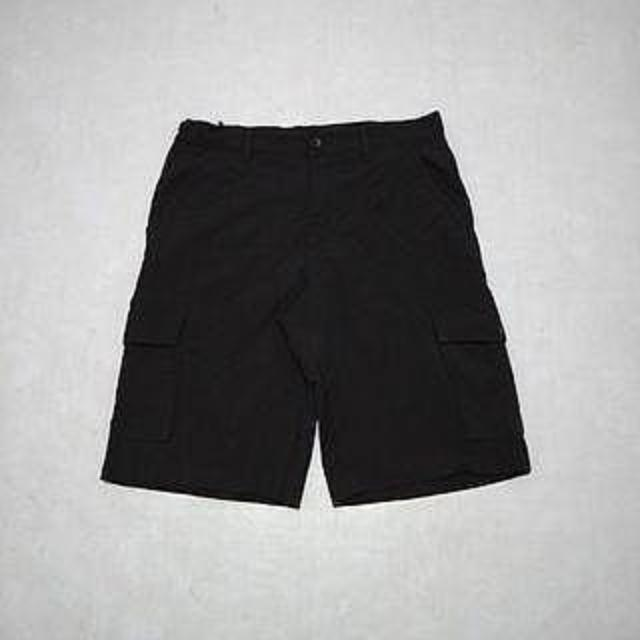SHORT: (78, 105, 569, 514)
